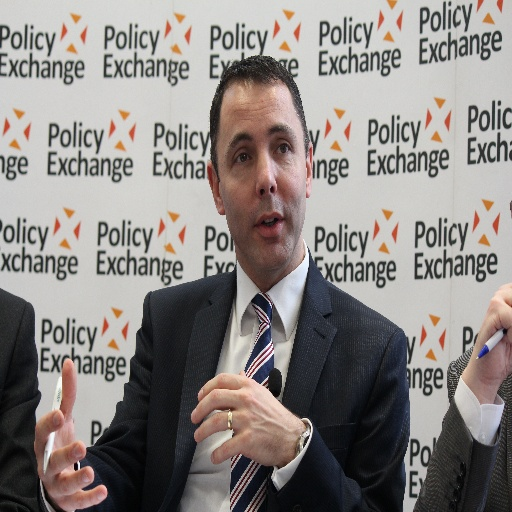hand: (194, 368, 311, 478), (32, 356, 108, 511), (468, 280, 511, 389)
